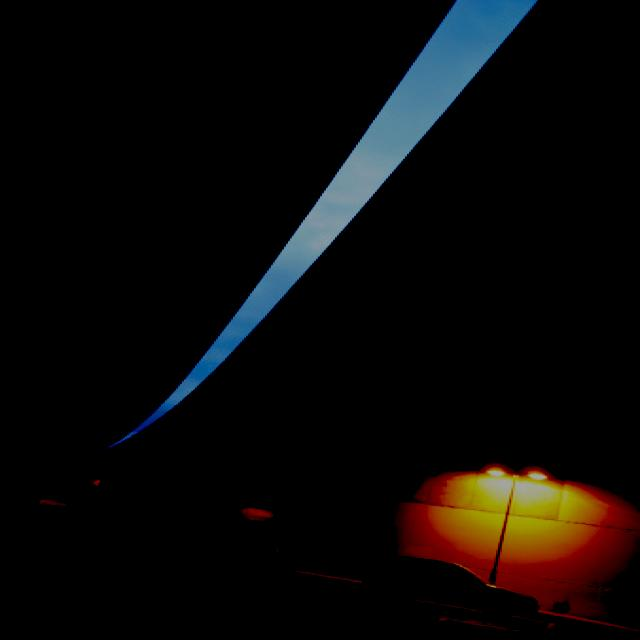Car: (360, 548, 535, 626)
